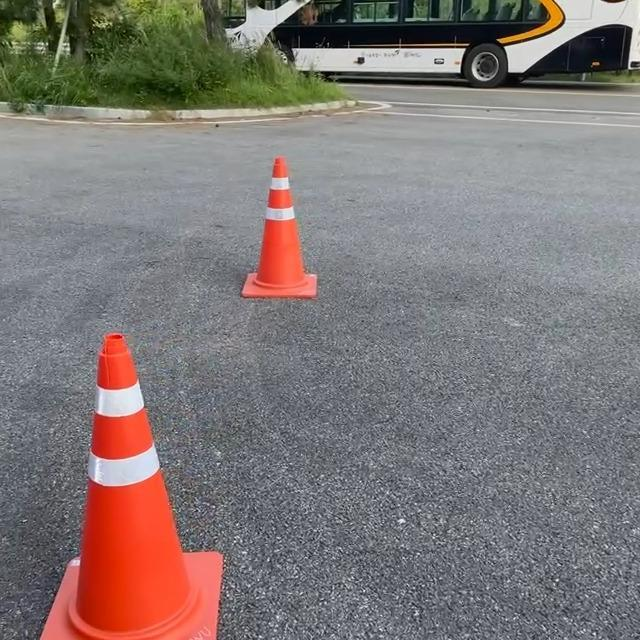fallen_object: (45, 320, 189, 606), (243, 129, 334, 305)
